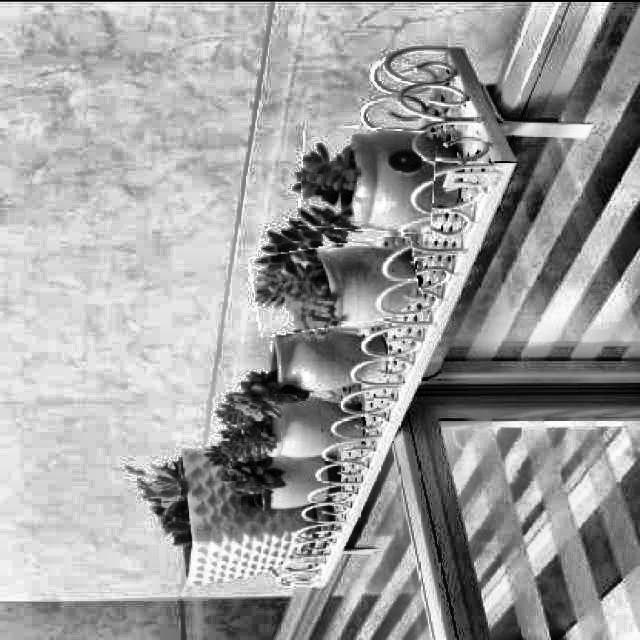plants: (252, 238, 420, 328), (300, 125, 436, 229)
